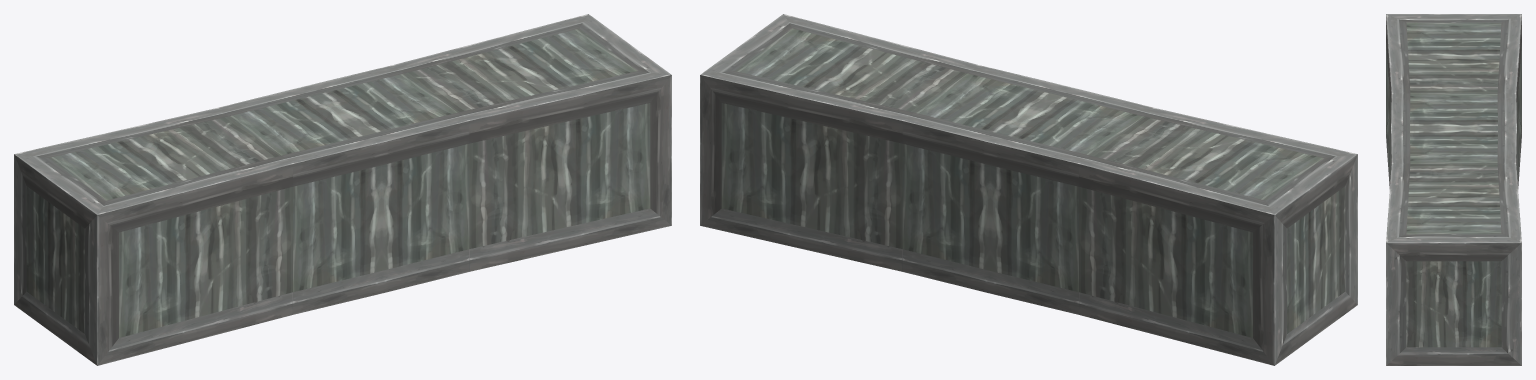
Rendered from ShippingContB.fbx.
The picture shows the model from 3 angles, left to right: view 1: azimuth 30°, elevation 25°; view 2: azimuth 150°, elevation 25°; view 3: azimuth 270°, elevation 25°; orthographic projection. The views are drawn at different scales.
Visible parts, largest first — view 1: ShippingContB; view 2: ShippingContB; view 3: ShippingContB.
Boxes of the visible parts, x1,y1,x2,y2 form: ShippingContB: [14, 14, 671, 365]; ShippingContB: [700, 14, 1357, 365]; ShippingContB: [1386, 14, 1521, 365].
Size of the model in its own units: 598 by 150 by 150.
